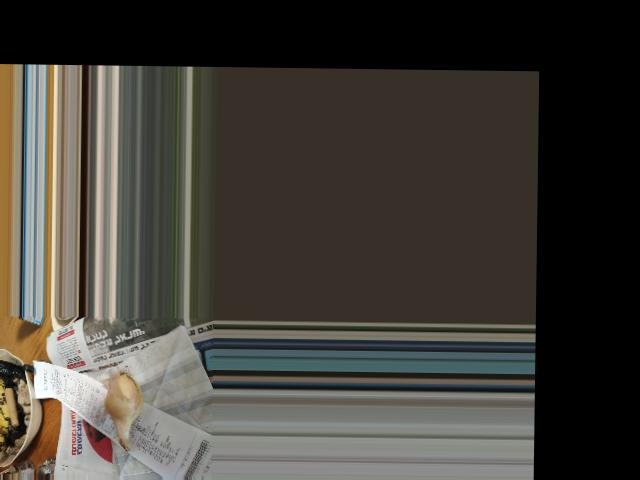onion: (107, 373, 138, 424)
